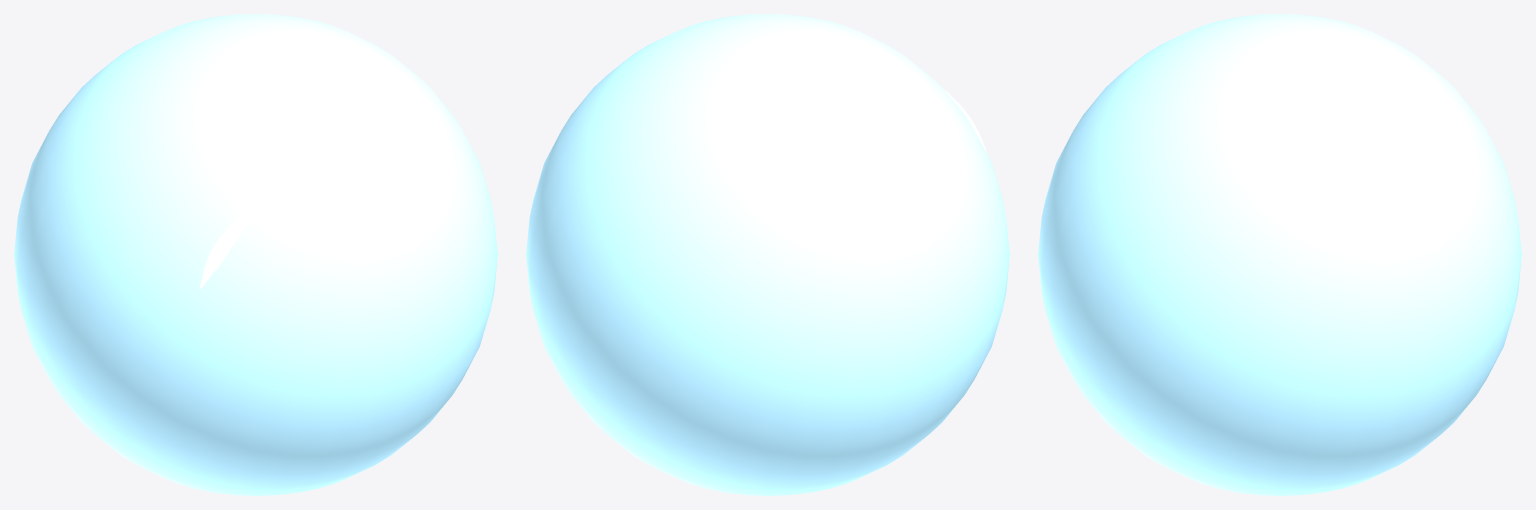
File: special_bubble_water.glb
3 renders of one model, left to right at view 1: azimuth 30°, elevation 25°; view 2: azimuth 150°, elevation 25°; view 3: azimuth 270°, elevation 25°, orthographic.
Visible parts, largest first — view 1: special_bubble_water; view 2: special_bubble_water; view 3: special_bubble_water.
Part boxes in pixels (x1,y1,x2,y2): special_bubble_water: [14, 14, 497, 495]; special_bubble_water: [526, 14, 1009, 495]; special_bubble_water: [1038, 14, 1521, 495].
Size of the model in its own units: 0.9 by 0.9 by 0.9.
